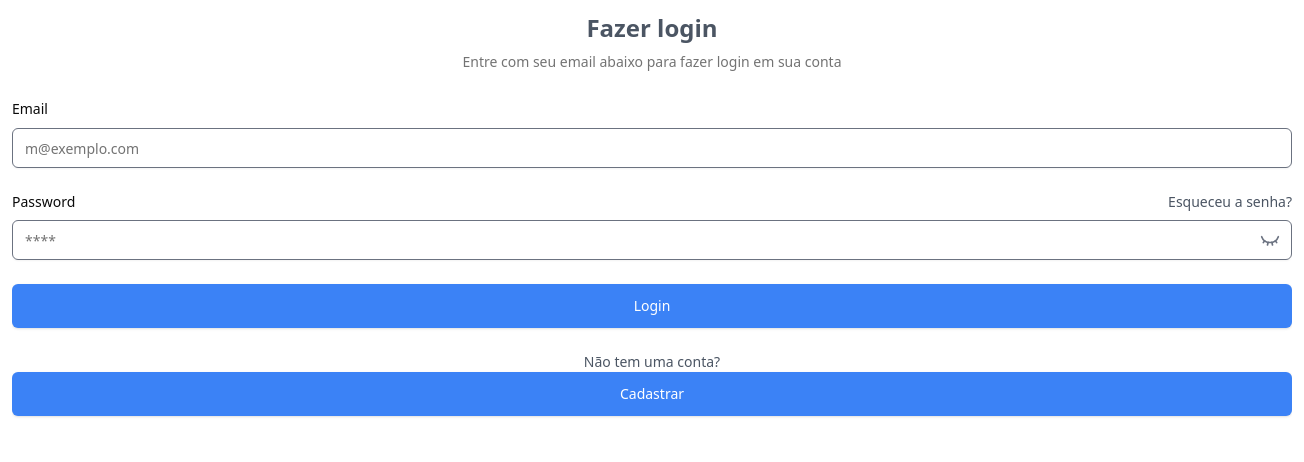
Test case: <LoginForm /> › should show error message when api returns a message
Type "user@test.com" into the field with placeholder "m@exemplo.com" at (652, 148), box [12,128,1292,168]
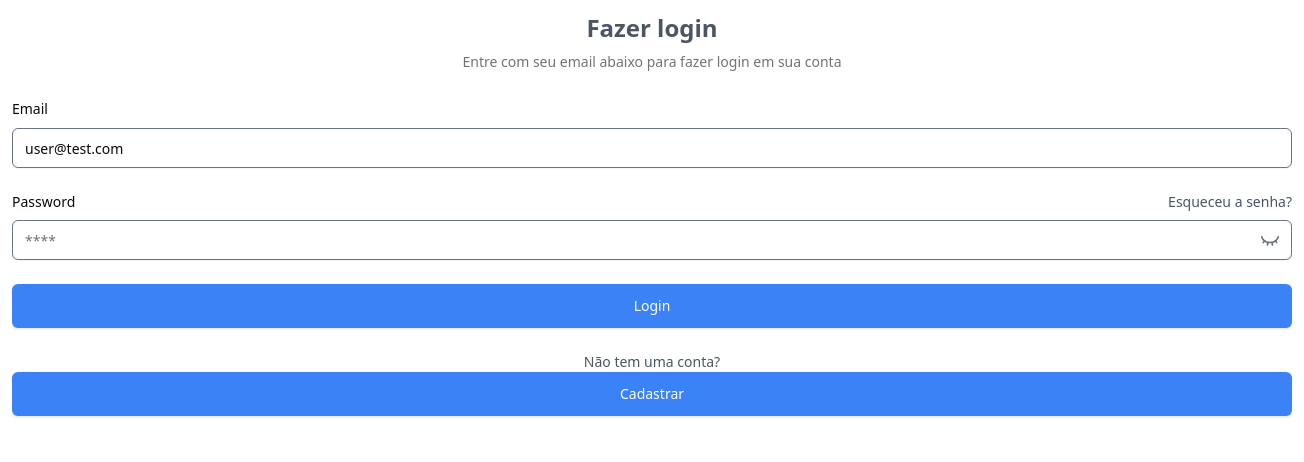
Type "123456" into the password field with placeholder "****" at (652, 240), box [12,220,1292,260]
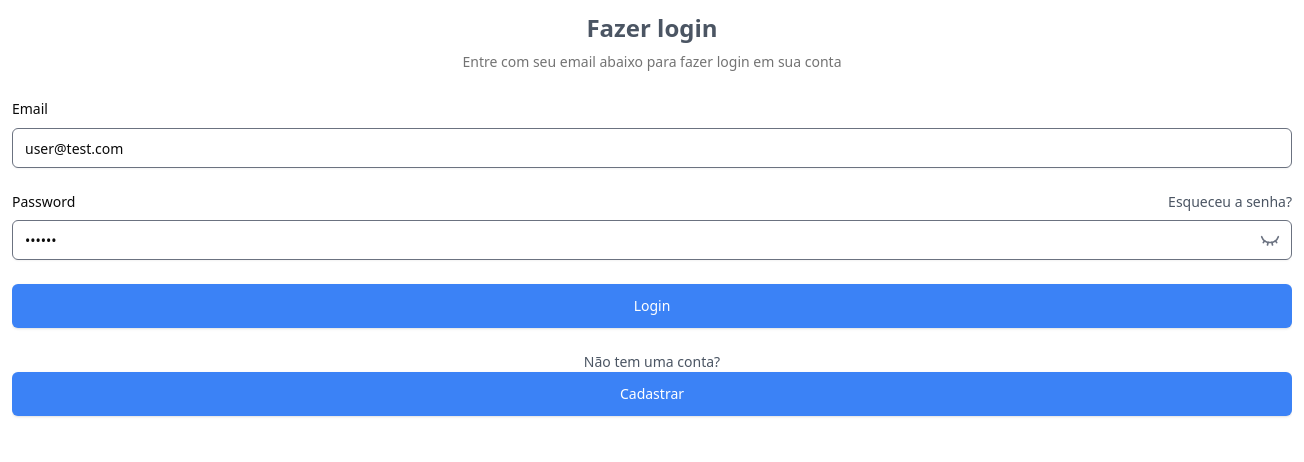
Click the button "Login" at (652, 306), box [12,284,1292,328]
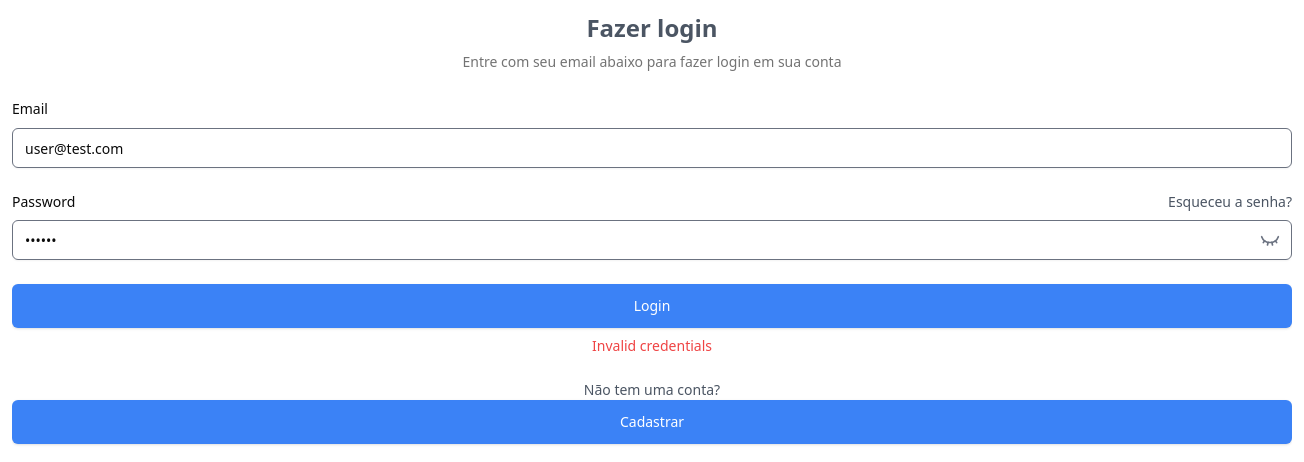
Expected: the text "Invalid credentials" is shown, [592,336,712,356]
